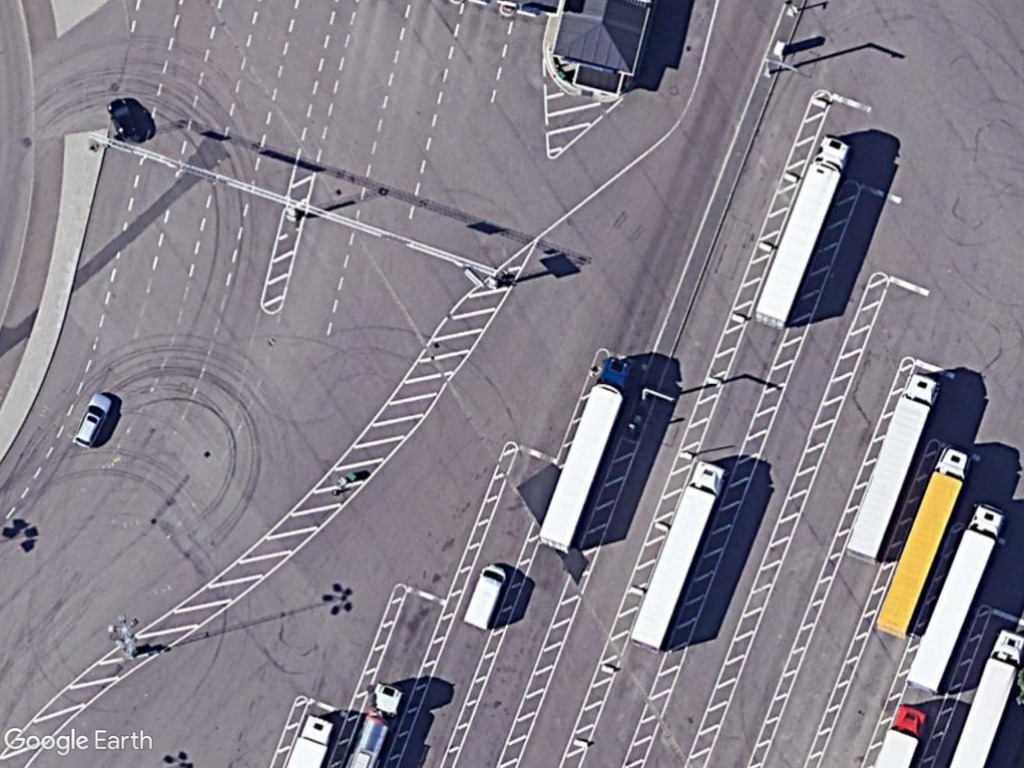car: (70, 385, 116, 452), (103, 95, 145, 148)
longvehicle: (745, 131, 854, 337), (868, 444, 975, 639), (624, 457, 729, 655), (533, 348, 633, 555), (899, 503, 1006, 694), (840, 368, 942, 565)
van: (461, 560, 510, 632)
